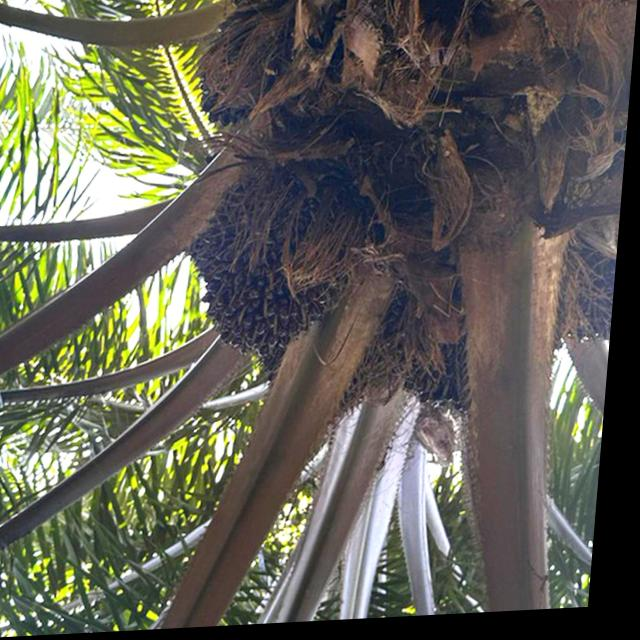almost: (174, 160, 376, 376), (404, 258, 582, 427), (188, 45, 281, 137)
